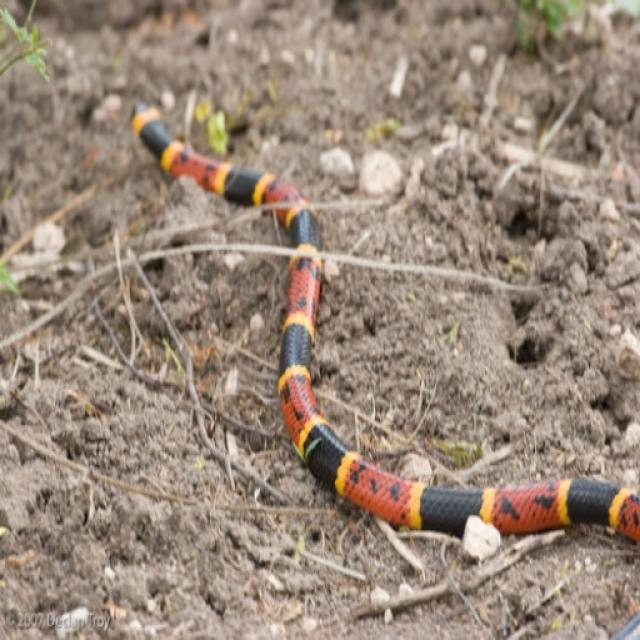snake: (121, 81, 640, 578)
